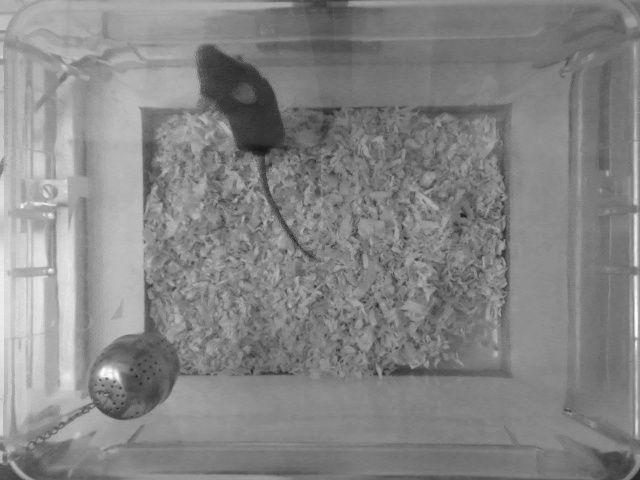mice: (193, 42, 317, 269)
